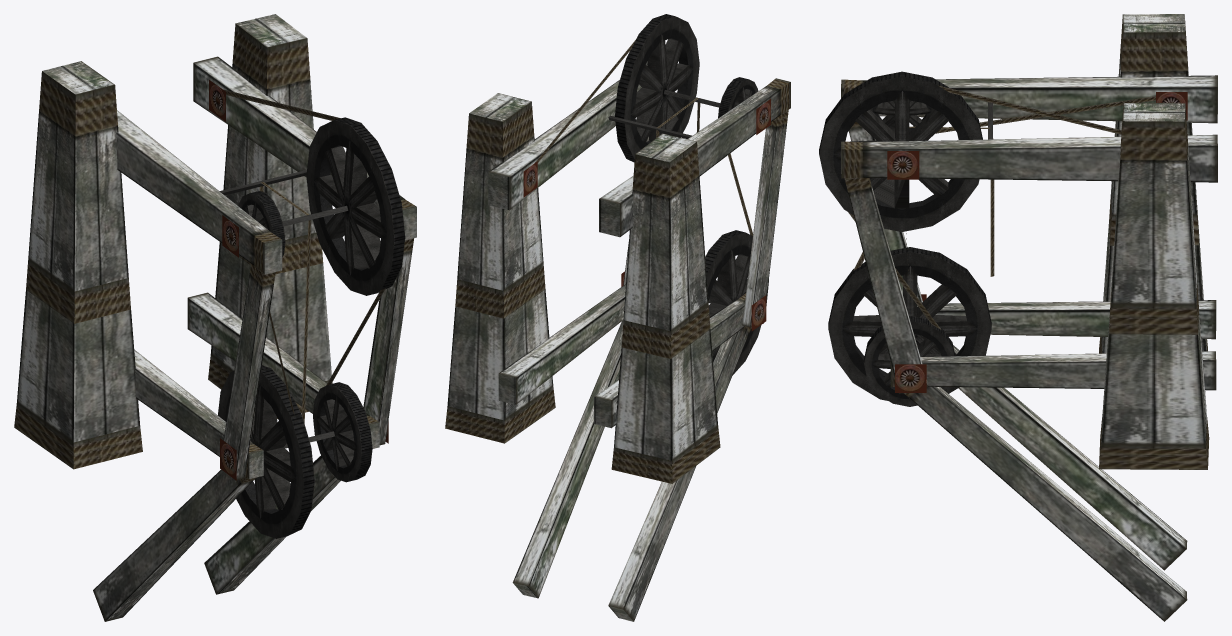
File: pir_m_prp_mng_elevator_top.fbx
3 renders of one model, left to right at view 1: azimuth 30°, elevation 25°; view 2: azimuth 150°, elevation 25°; view 3: azimuth 270°, elevation 25°, orthographic. The views are drawn at different scales.
Visible parts, largest first — view 1: post, arm, wheel, rope, pulley, axle; view 2: post, arm, wheel, pulley, rope, axle; view 3: arm, post, wheel, rope, pulley.
Boxes of the visible parts, bbox=[...] form: post: bbox=[14, 14, 332, 469]; arm: bbox=[93, 56, 416, 621]; wheel: bbox=[218, 117, 405, 538]; rope: bbox=[223, 89, 385, 423]; pulley: bbox=[209, 80, 388, 480]; axle: bbox=[219, 170, 348, 448]; post: bbox=[445, 93, 720, 483]; arm: bbox=[488, 61, 790, 621]; wheel: bbox=[615, 14, 768, 375]; pulley: bbox=[523, 99, 770, 331]; rope: bbox=[535, 40, 753, 235]; axle: bbox=[608, 90, 720, 303]; arm: bbox=[841, 75, 1217, 621]; post: bbox=[1099, 14, 1209, 469]; wheel: bbox=[819, 71, 991, 406]; rope: bbox=[848, 85, 1155, 329]; pulley: bbox=[887, 92, 1187, 392].
Size of the model in its own units: 2865 by 5919 by 3962.
2 materials, 2 textured.
